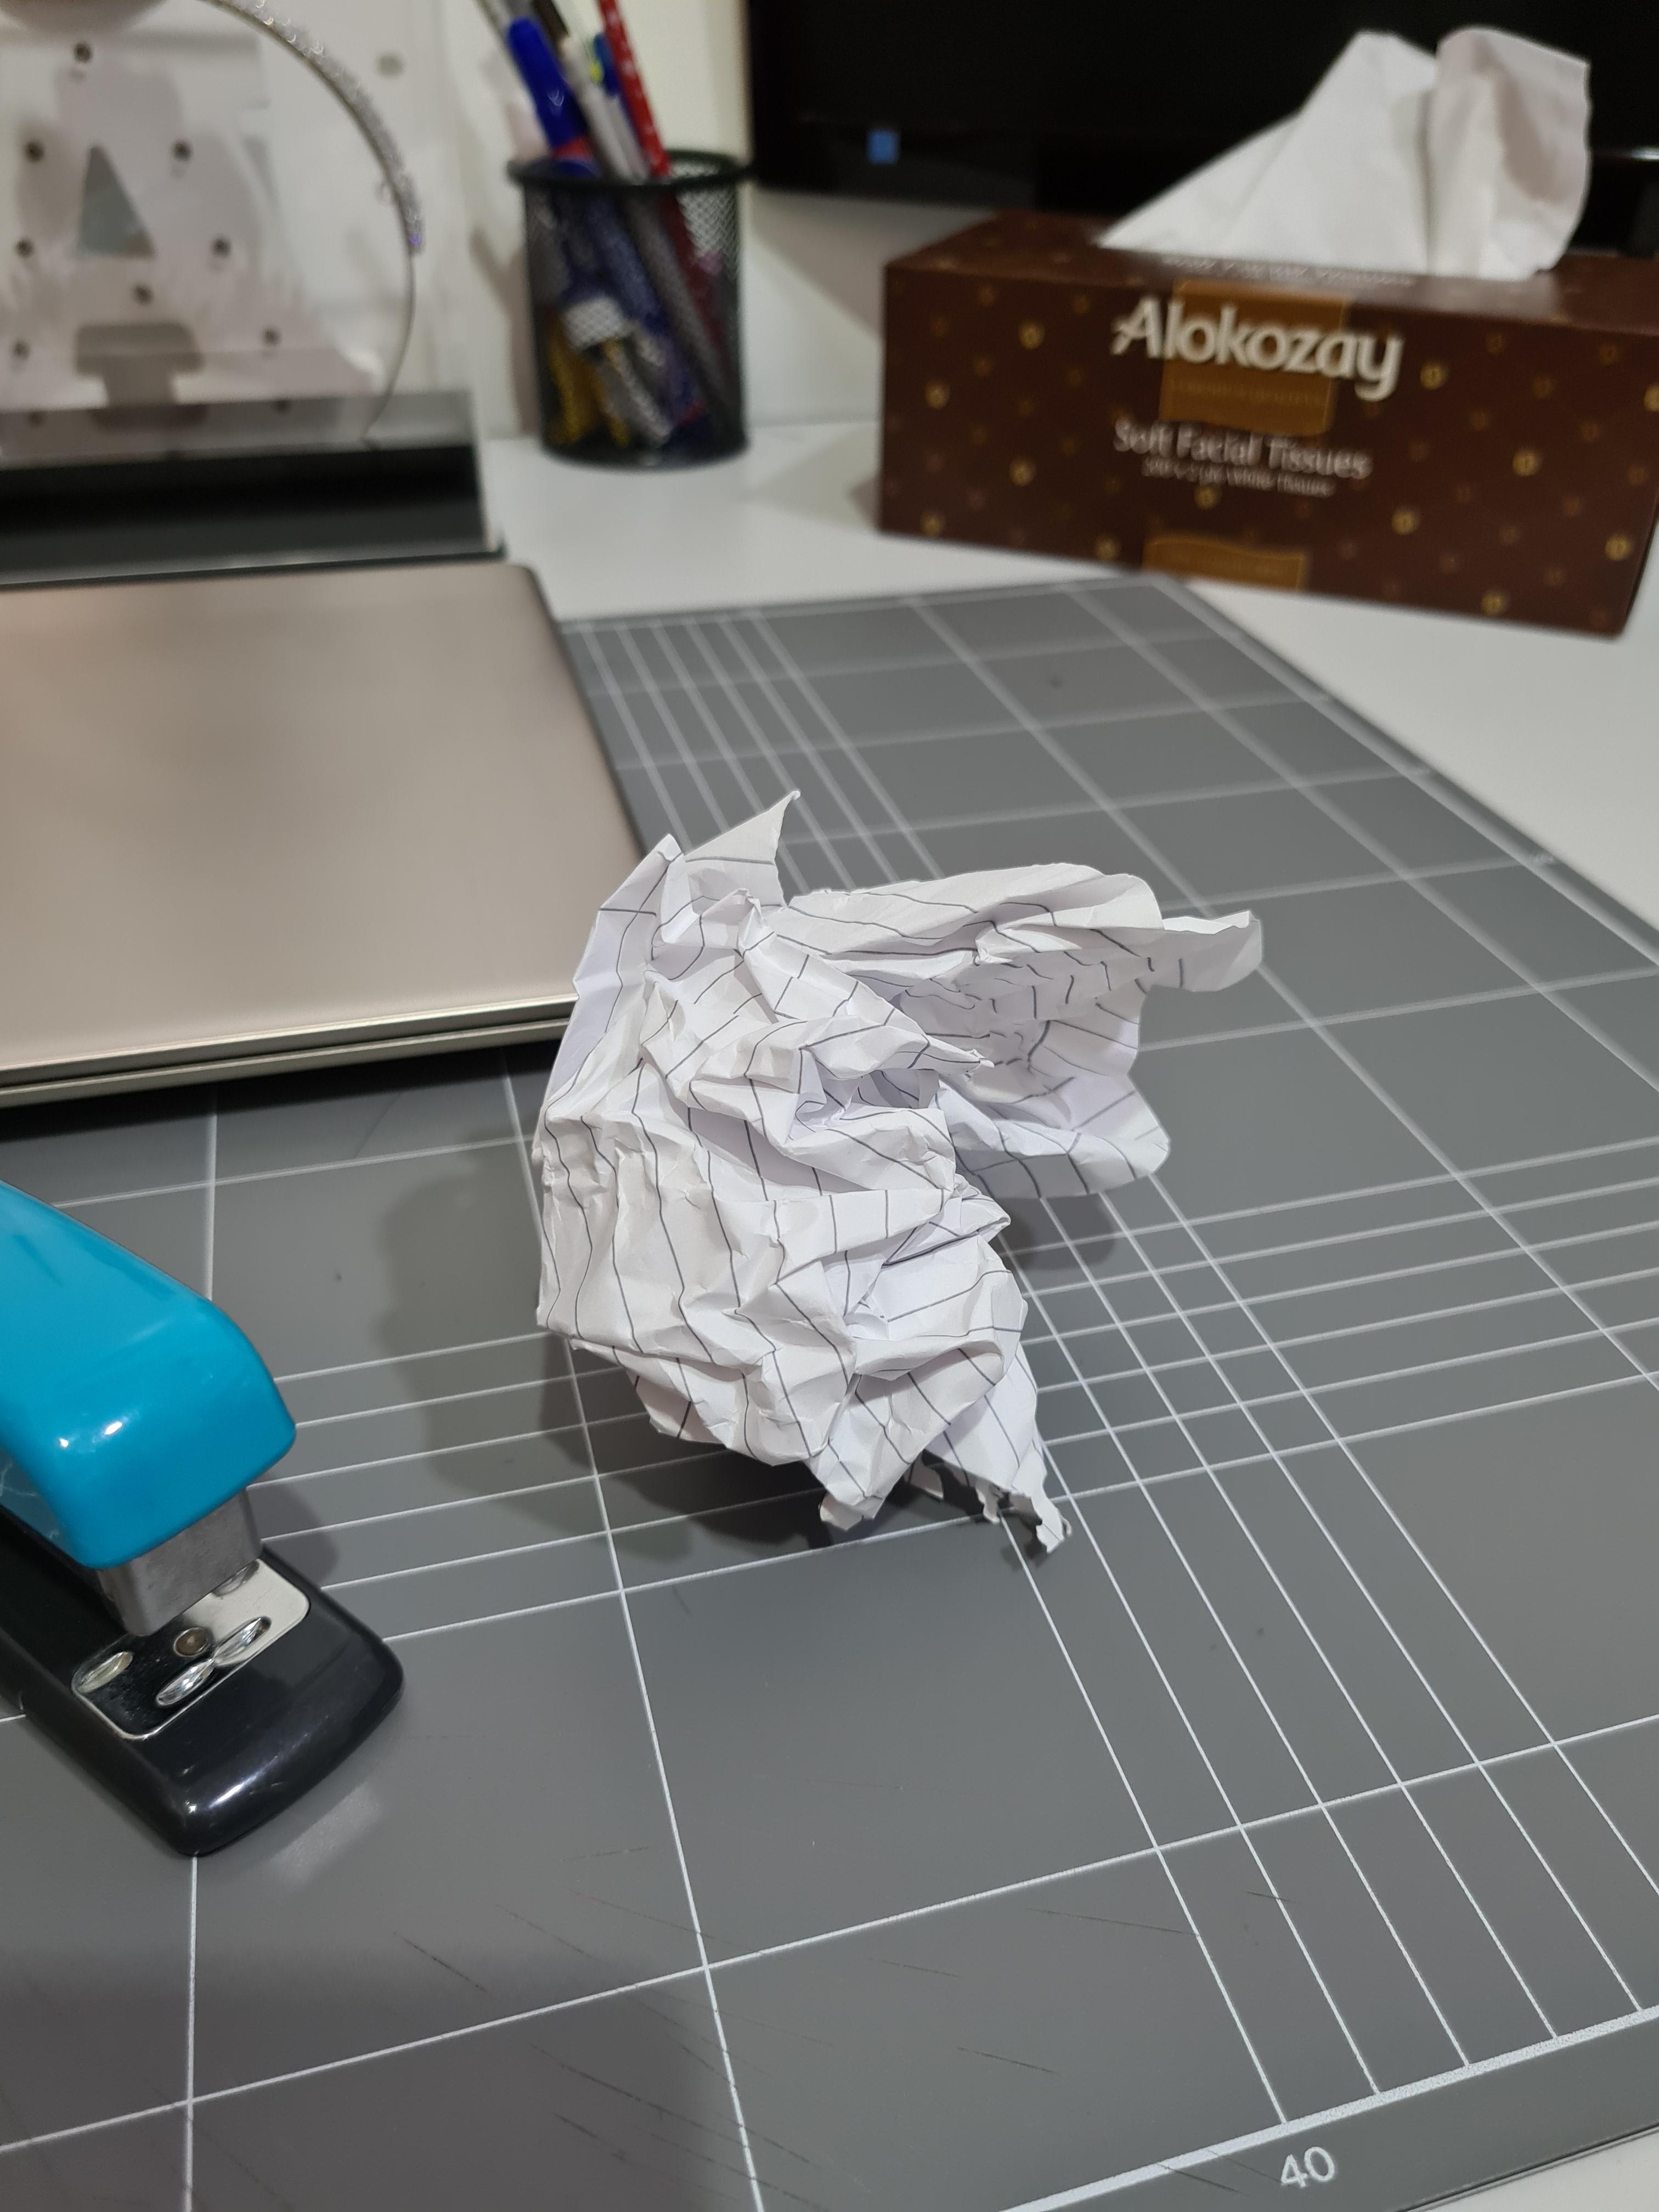Paper: (517, 797, 1264, 1538)
